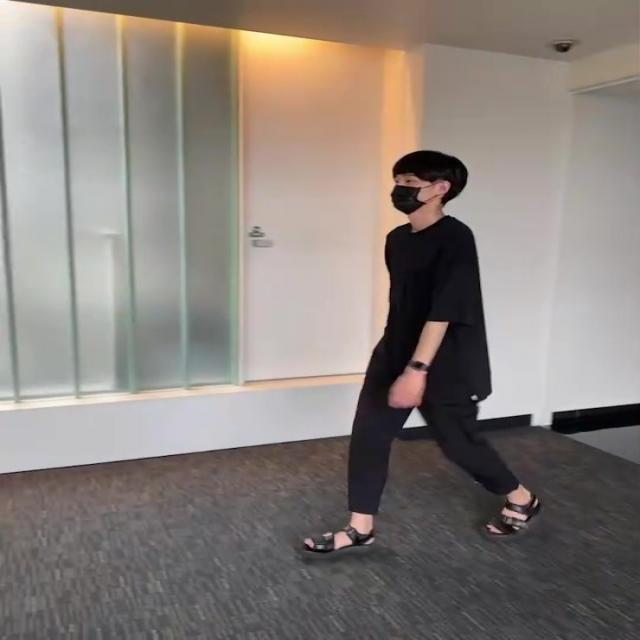direk: (298, 147, 546, 561)
